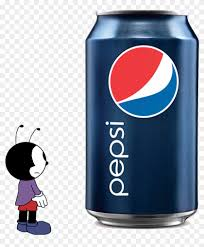pepsi: (109, 43, 182, 121), (104, 119, 134, 201)
